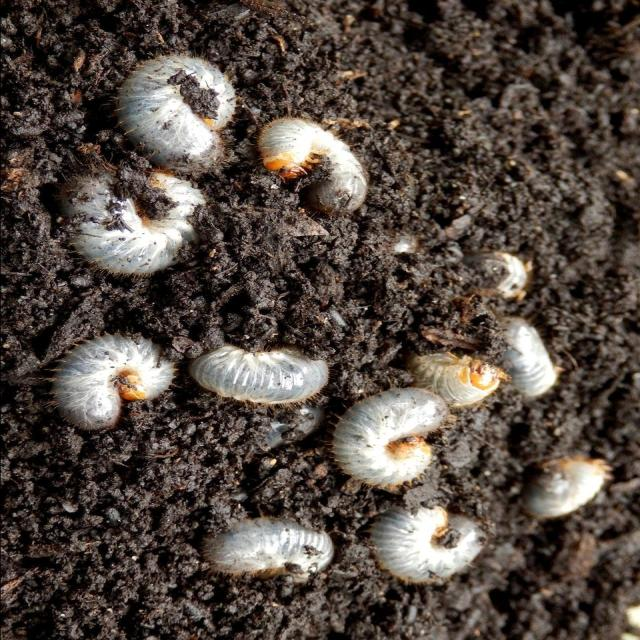grub: (119, 50, 247, 175), (65, 173, 208, 281), (335, 387, 452, 505), (60, 328, 178, 437), (364, 500, 493, 591), (260, 116, 366, 216), (197, 345, 337, 411), (211, 517, 340, 585), (523, 452, 619, 522), (494, 315, 556, 404)
